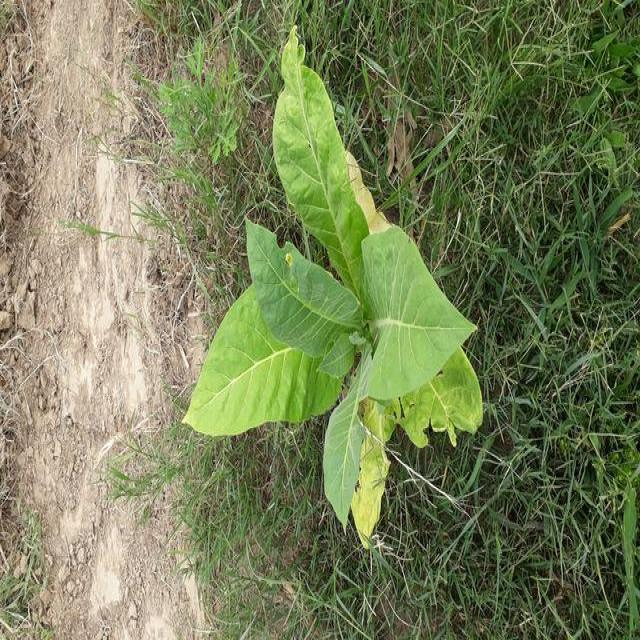crop: (184, 32, 490, 552)
